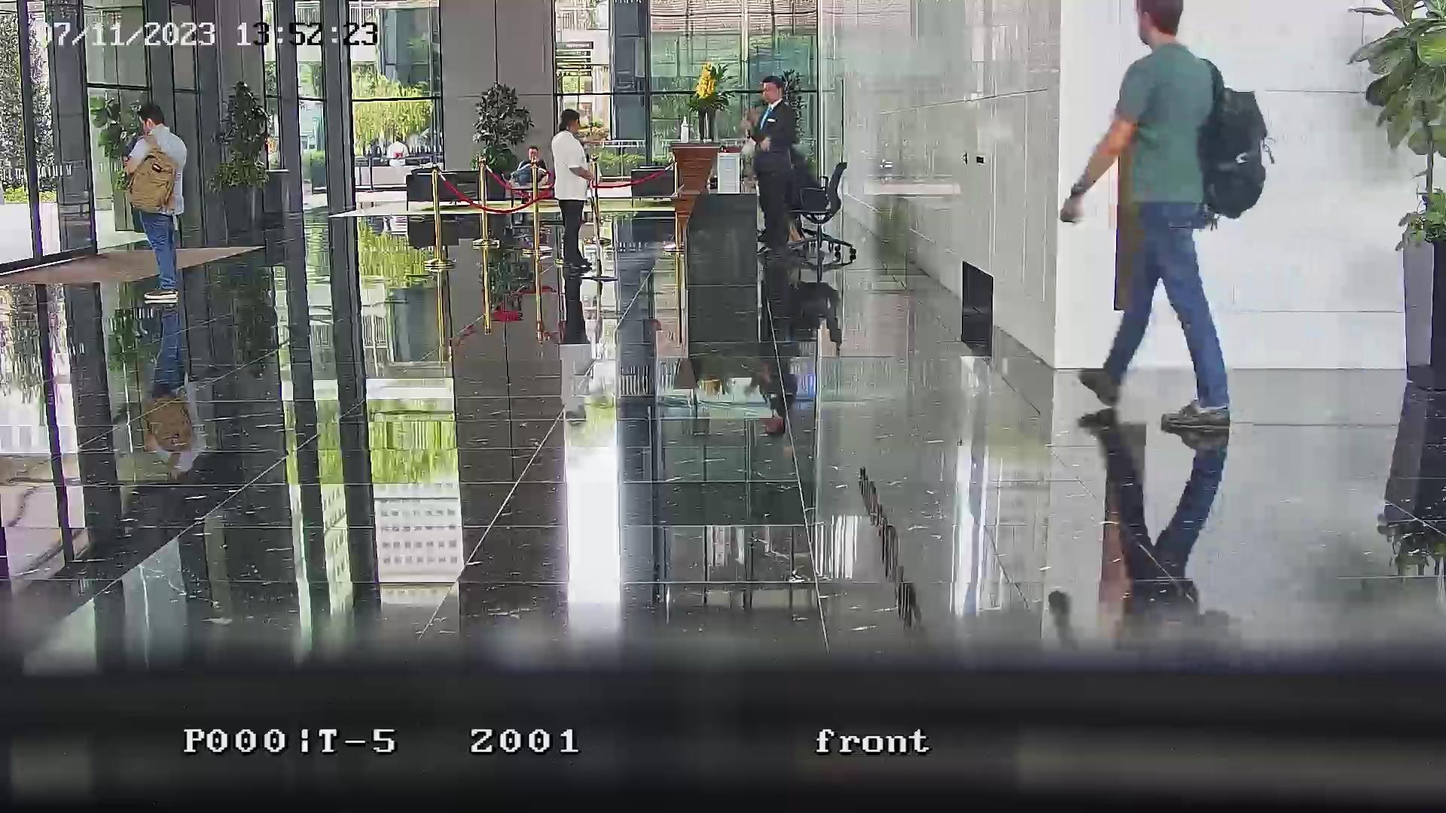person: (1058, 0, 1232, 437), (120, 103, 188, 297), (743, 75, 799, 250), (551, 108, 598, 274), (511, 146, 557, 209), (387, 131, 412, 165), (367, 137, 385, 166)
